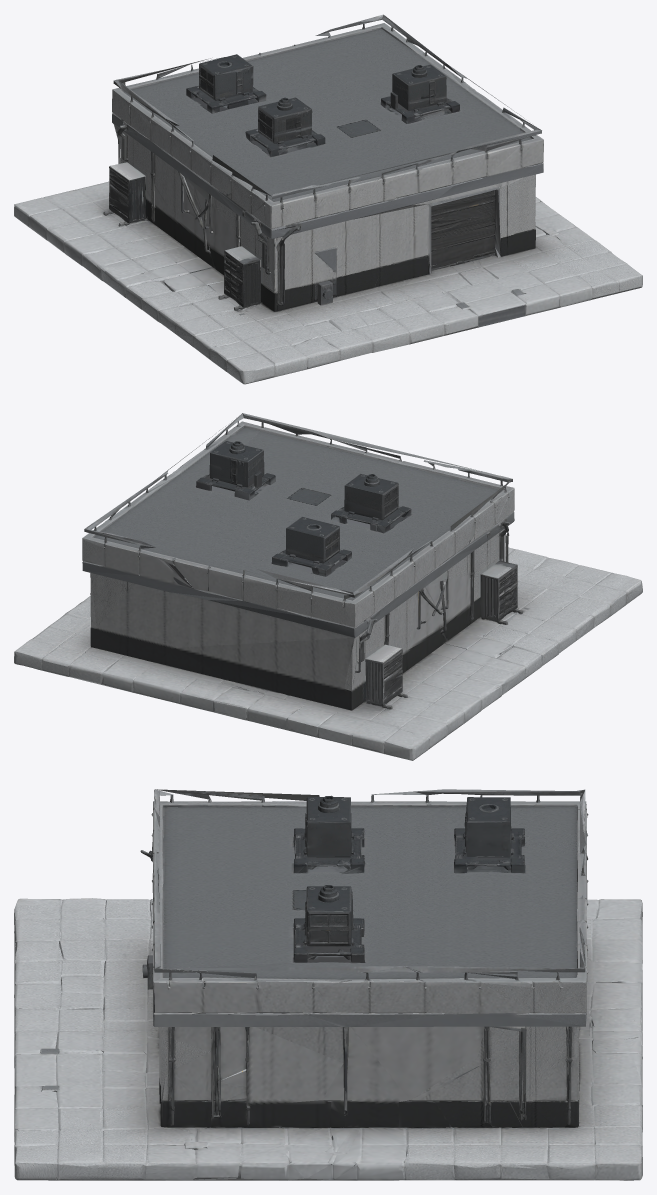
Rendered from datacenter.glb.
3 views of the same model, one above another, from view 1: azimuth 30°, elevation 25°; view 2: azimuth 150°, elevation 25°; view 3: azimuth 270°, elevation 25° (orthographic). The views are drawn at different scales.
Size of the model in its own units: 1.9 by 0.7408 by 1.9.
Materials: 1 (1 with a texture image).
